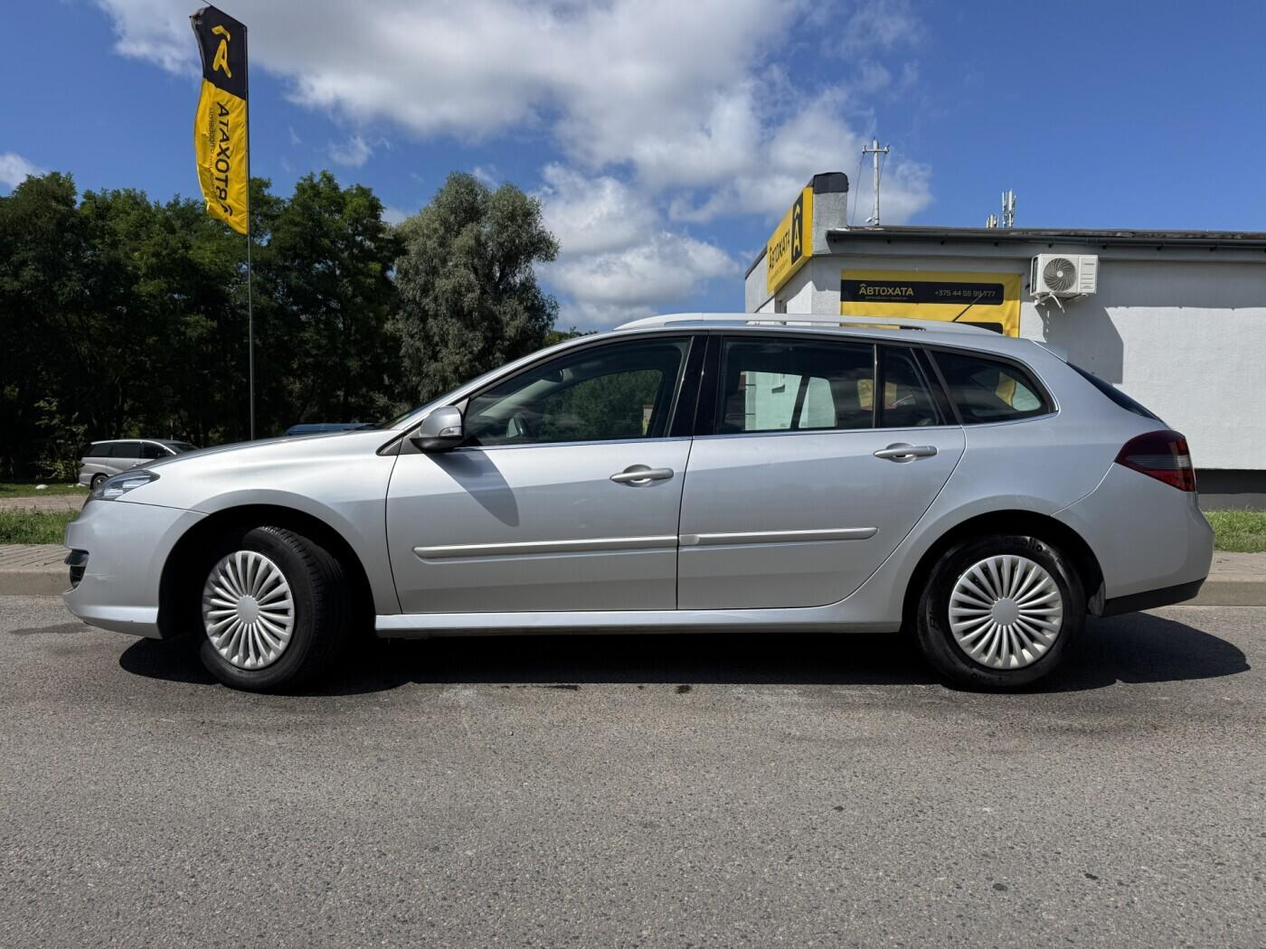Laguna_2010-2015: (56, 301, 1216, 709)
